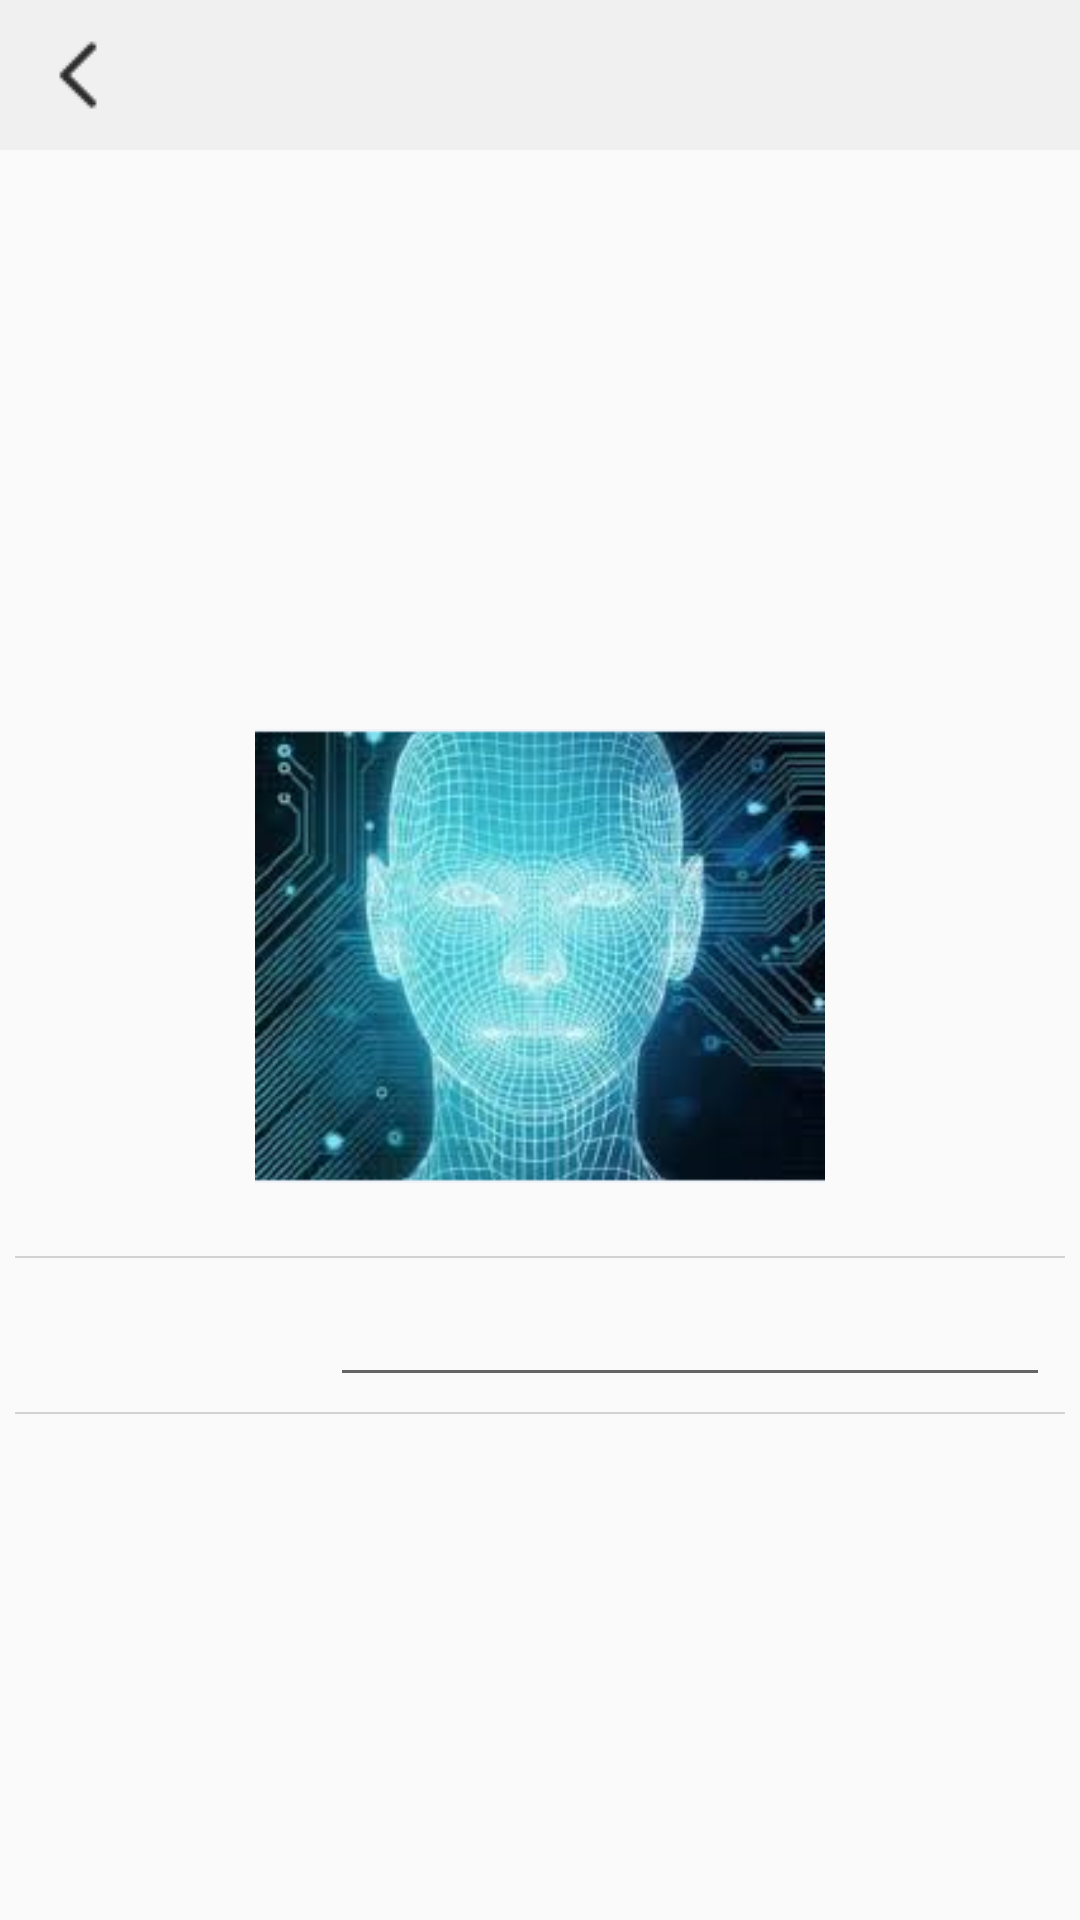

Icon bounding boxes for this 1080px x 1920px phone screenshot, format bbox=(x1, y1, x2, y2):
back: bbox=(59, 41, 97, 109)
